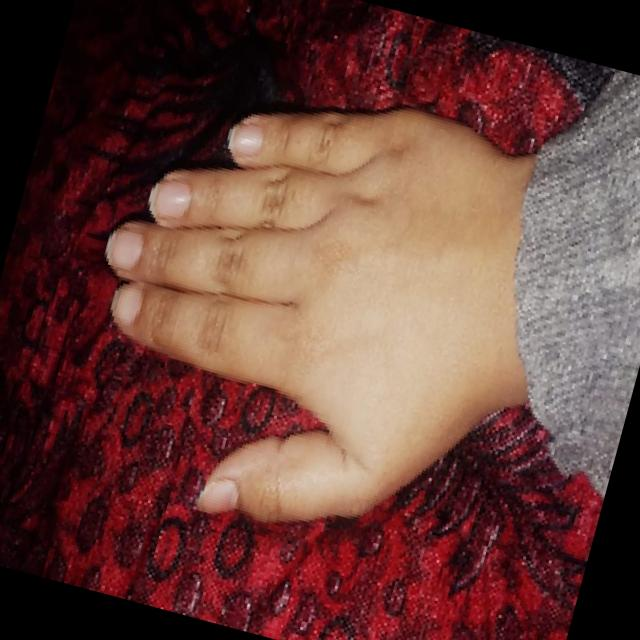Nail: (149, 178, 190, 218), (105, 227, 143, 270), (196, 477, 239, 512), (111, 283, 142, 324), (226, 121, 263, 154)
